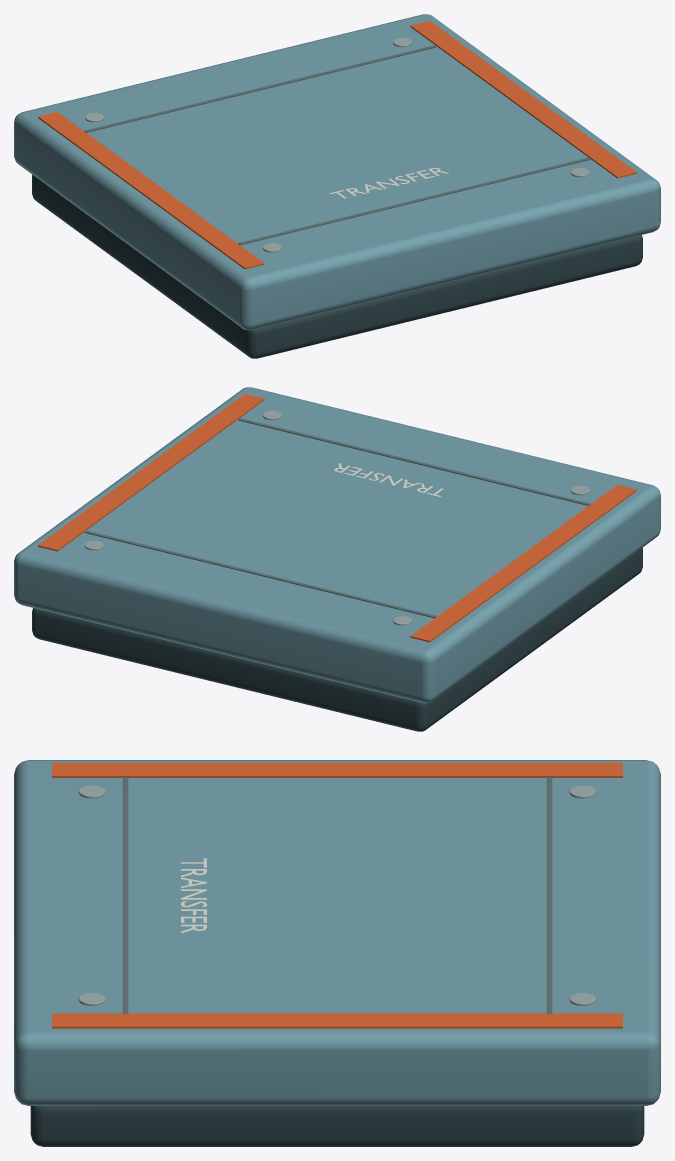
The model's file is platform-refined.glb.
The picture shows the model from 3 angles, top to bottom: view 1: azimuth 30°, elevation 25°; view 2: azimuth 150°, elevation 25°; view 3: azimuth 270°, elevation 25°; orthographic projection. The views are drawn at different scales.
Visible parts, largest first — view 1: PlatformVisual; view 2: PlatformVisual; view 3: PlatformVisual.
Part boxes in pixels (x1,y1,x2,y2): PlatformVisual: [14, 14, 660, 358]; PlatformVisual: [14, 387, 660, 731]; PlatformVisual: [14, 760, 660, 1146].
Size of the model in its own units: 3 by 0.611 by 2.9.
